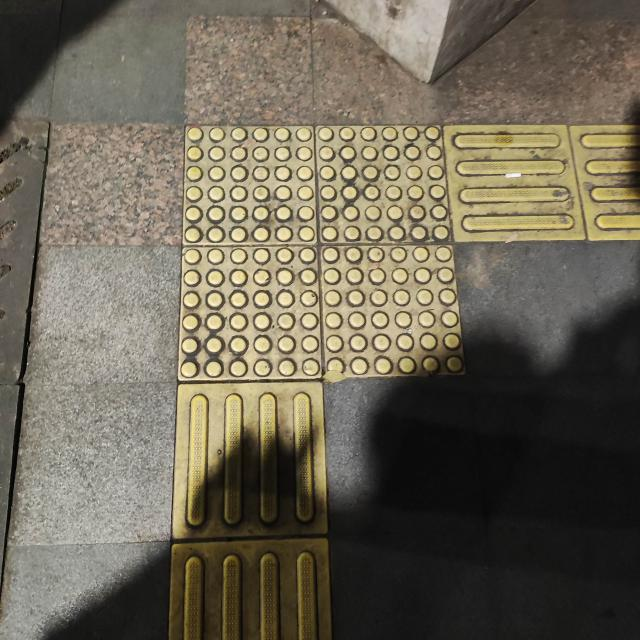kanan: (118, 78, 640, 480)
